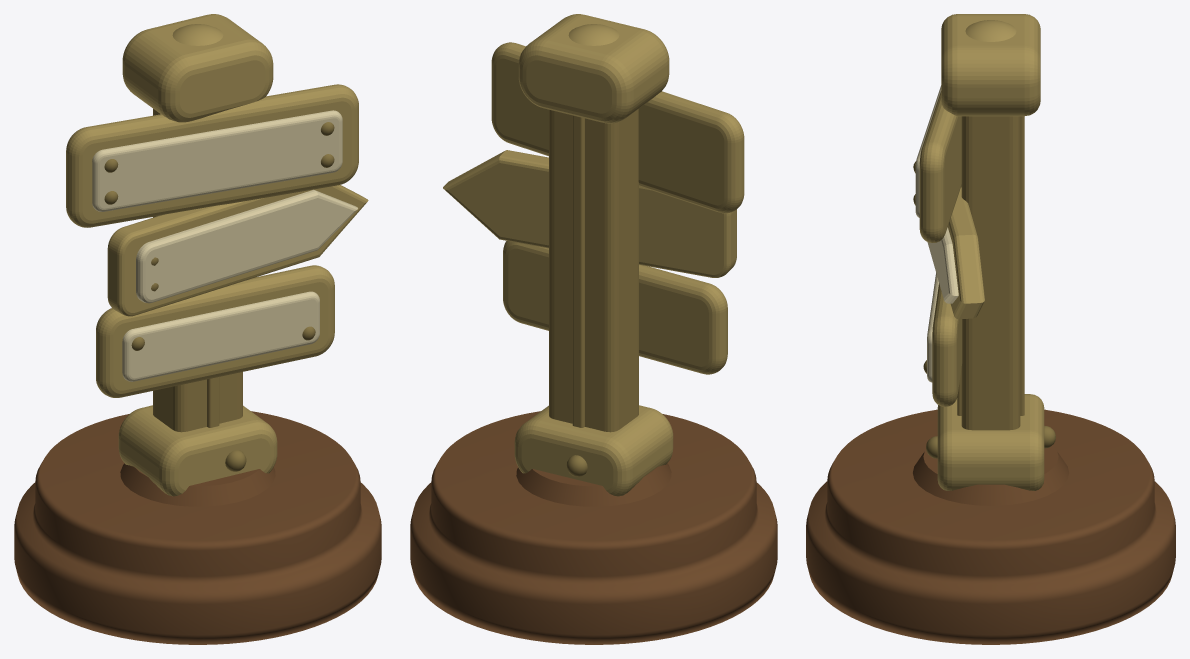
File: ch5-piece-fake-hq-sign.glb
3 renders of one model, left to right at view 1: azimuth 30°, elevation 25°; view 2: azimuth 150°, elevation 25°; view 3: azimuth 270°, elevation 25°, orthographic.
Visible parts, largest first — view 1: base, plate_face (×2), plate_frame (×2), arrow_face, cap, foot_collar, arrow_frame, post, foot_ring, cap_dome, post_groove; view 2: base, plate_frame (×2), post, arrow_frame, cap, foot_collar, post_groove, foot_ring, cap_dome; view 3: base, post, cap, plate_frame (×2), foot_collar, foot_ring, arrow_frame, post_groove, arrow_face, cap_dome, plate_face.
Part boxes in pixels (box(x1,y1,x2,y2)): base: box(14, 411, 381, 644); plate_face (×2): box(92, 110, 342, 381); plate_frame (×2): box(66, 84, 358, 397); arrow_face: box(136, 189, 357, 303); cap: box(122, 14, 273, 122); foot_collar: box(118, 405, 277, 496); arrow_frame: box(107, 185, 368, 316); post: box(153, 109, 242, 432); foot_ring: box(120, 463, 275, 506); cap_dome: box(172, 24, 223, 45); post_groove: box(207, 377, 219, 427); base: box(410, 411, 777, 644); plate_frame (×2): box(491, 42, 744, 374); post: box(549, 109, 638, 432); arrow_frame: box(443, 150, 736, 277); cap: box(518, 14, 669, 123); foot_collar: box(514, 405, 673, 496); post_groove: box(572, 115, 584, 427); foot_ring: box(516, 463, 671, 506); cap_dome: box(568, 24, 619, 45); base: box(806, 409, 1175, 644); post: box(961, 116, 1020, 430); cap: box(941, 14, 1040, 116); plate_frame (×2): box(919, 91, 962, 406); foot_collar: box(937, 394, 1044, 490); foot_ring: box(913, 445, 1068, 505); arrow_frame: box(948, 187, 984, 319); post_groove: box(957, 116, 1024, 415); arrow_face: box(927, 227, 958, 303); cap_dome: box(965, 20, 1016, 41); plate_face: box(927, 273, 938, 382).
Bounding box in the file's own units: 0.104 × 0.1686 × 0.104.
